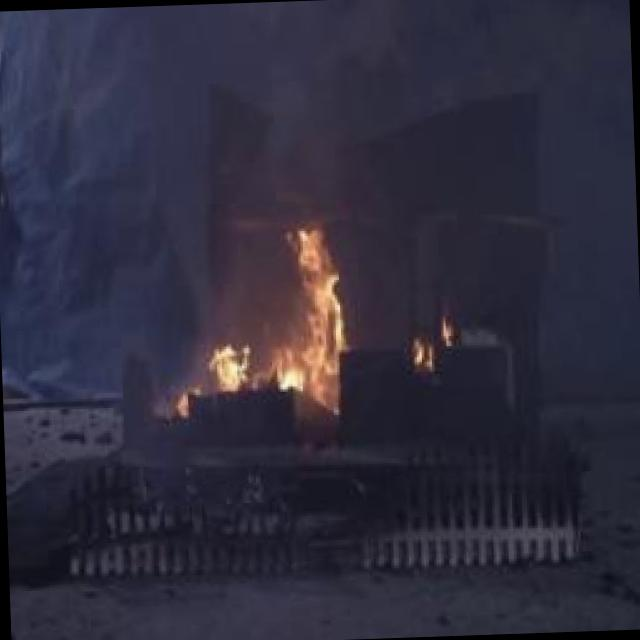fire: (188, 212, 363, 413)
